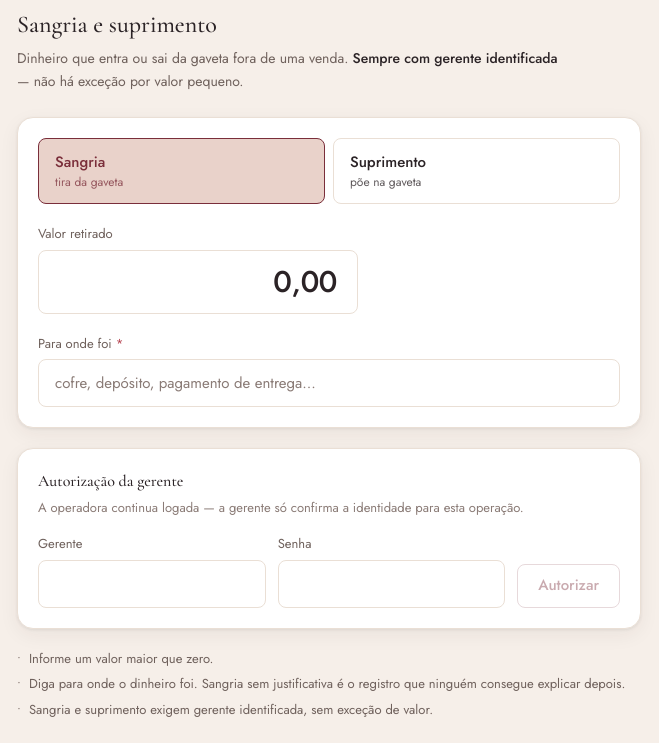
Scenario: TelaMovimentoCaixa — autorização › operadora com senha certa não autoriza, e a tela diz por quê
The width and height of the screenshot is (659, 743).
In the field labelled "Gerente": (152, 584) 38,560 -> 266,608, type "bia"
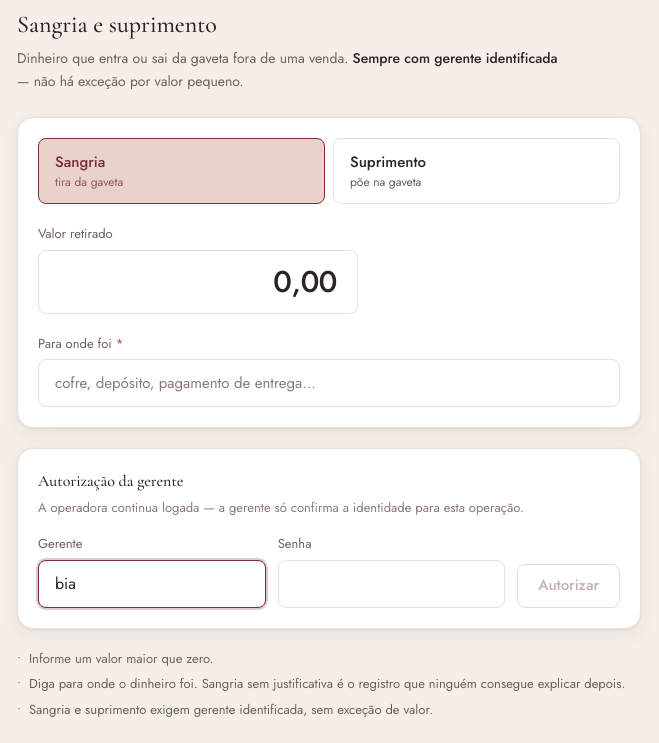
In the password field labelled "Senha": (392, 584) 278,560 -> 505,608, type "gerente123"
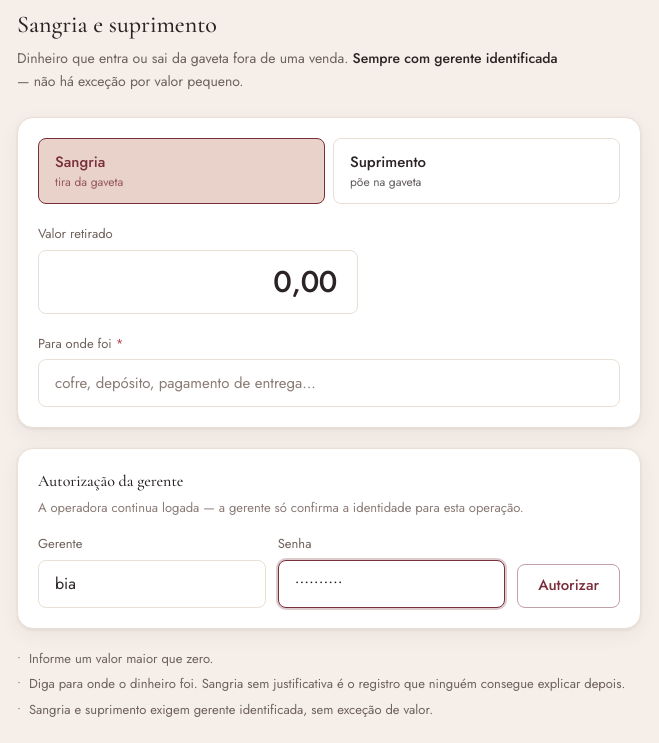
Click the button "Autorizar": (569, 586) 517,564 -> 620,608
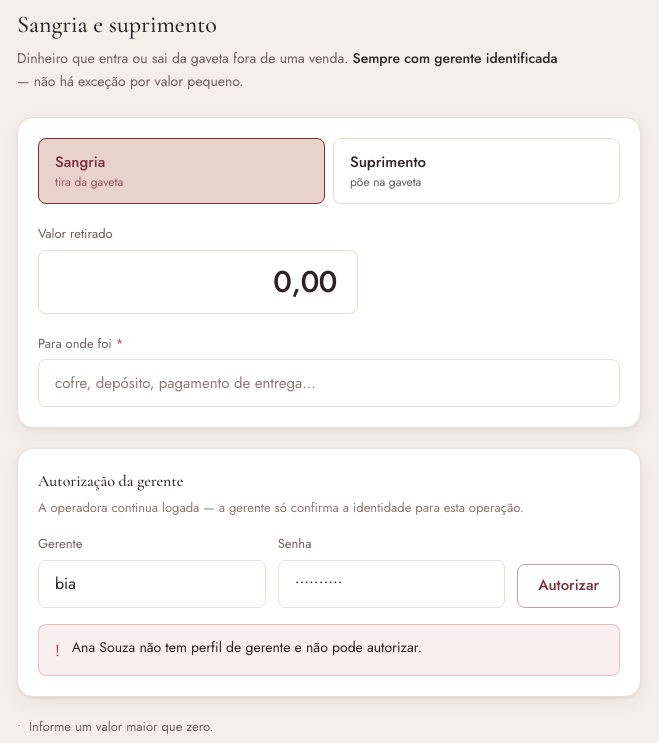
Check: the message shows "não tem perfil de gerente", box 72,637 -> 422,657
